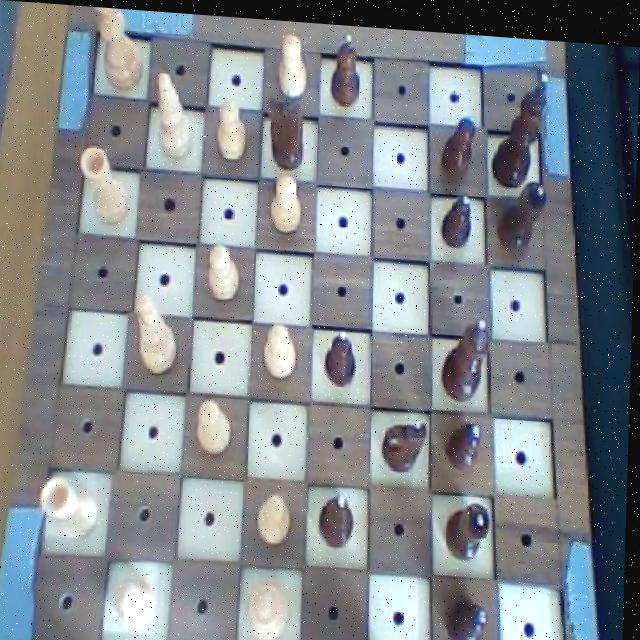bishop: (319, 482, 361, 546)
black-bishop: (490, 53, 558, 181)
black-king: (263, 88, 312, 170), (380, 404, 433, 469)
black-knight: (437, 99, 480, 174), (324, 24, 362, 104), (449, 585, 495, 640), (445, 410, 488, 468), (440, 181, 477, 244), (325, 321, 362, 384)
black-pawn: (439, 306, 495, 401)
black-queen: (492, 167, 549, 249), (441, 493, 495, 557)
black-rook: (147, 63, 200, 160), (132, 285, 183, 373)
white-bishop: (90, 6, 148, 96)
white-knight: (194, 389, 240, 459), (266, 165, 308, 235), (115, 572, 162, 633), (272, 25, 312, 95), (261, 314, 301, 379), (214, 94, 252, 162), (206, 238, 245, 304), (254, 485, 297, 544)
white-pawn: (245, 572, 297, 640)
white-queen: (37, 464, 104, 545), (76, 139, 134, 229)
